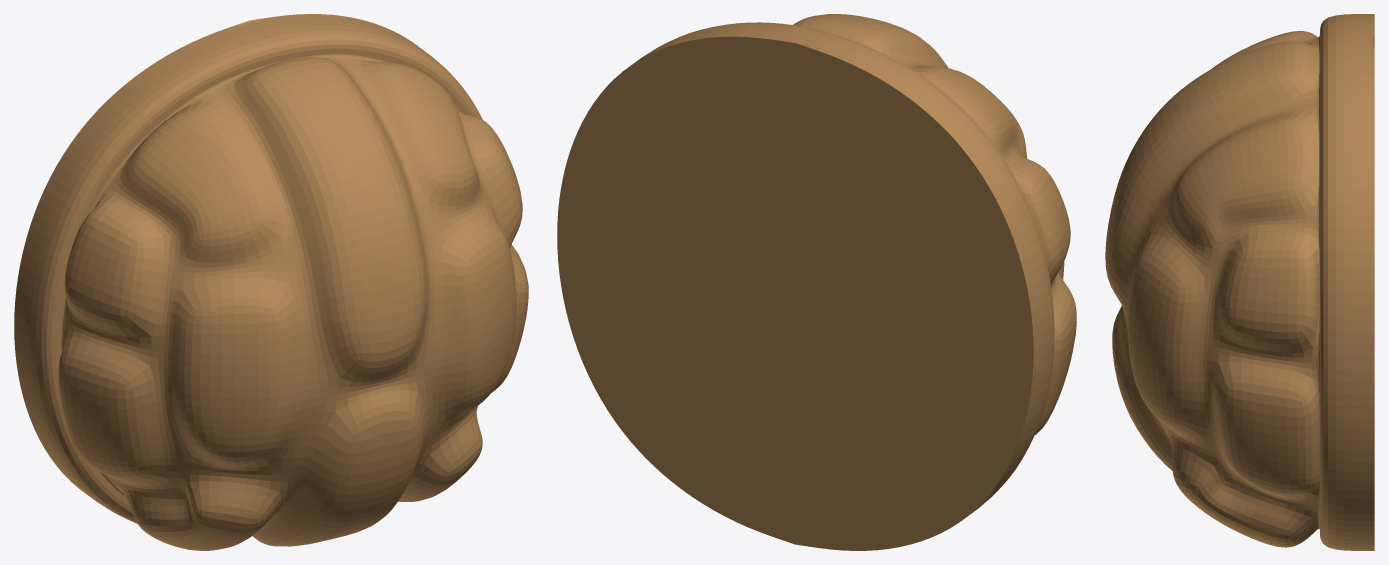
The model's file is hodu.glb.
3 views of the same model, side by side, from view 1: azimuth 30°, elevation 25°; view 2: azimuth 150°, elevation 25°; view 3: azimuth 270°, elevation 25° (orthographic). The views are drawn at different scales.
Parts seen in each view (by area): view 1: hodu; view 2: hodu; view 3: hodu.
Part boxes in pixels (box(x1,y1,x2,y2)): hodu: box(14, 14, 528, 550); hodu: box(557, 14, 1076, 550); hodu: box(1105, 14, 1374, 550).
Bounding box in the file's own units: 13.68 × 13.76 × 6.95.
